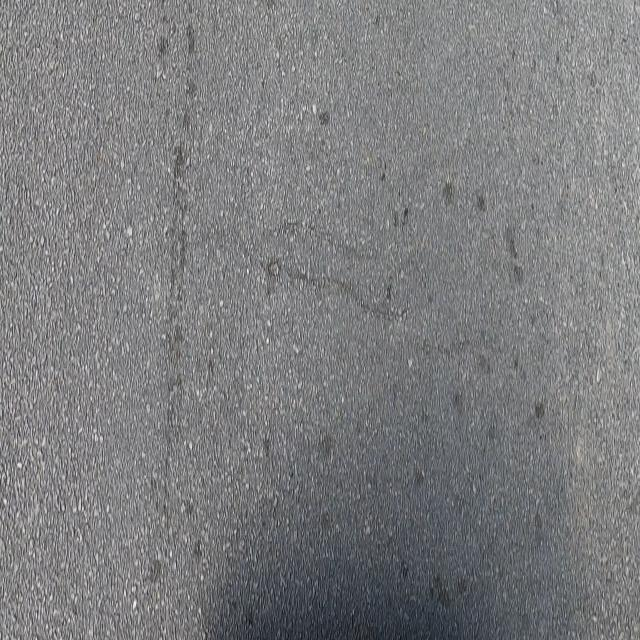Retak-Melintang: (266, 258, 412, 329)
